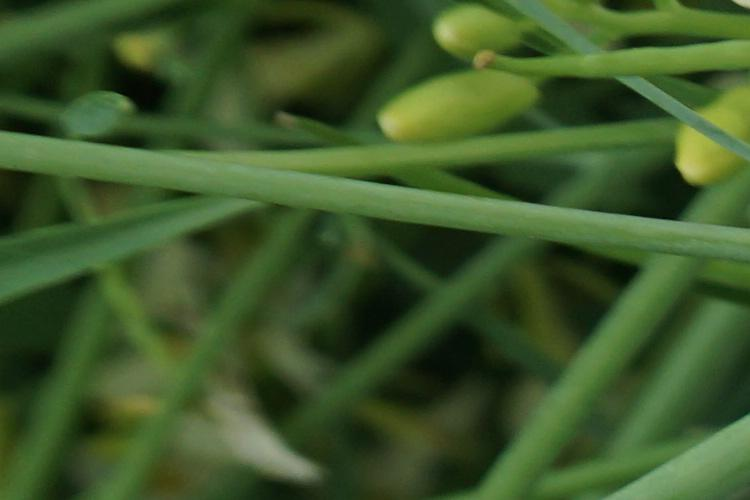bud: (375, 63, 566, 148), (665, 86, 745, 192), (423, 4, 557, 67)
pod: (462, 43, 750, 83)
